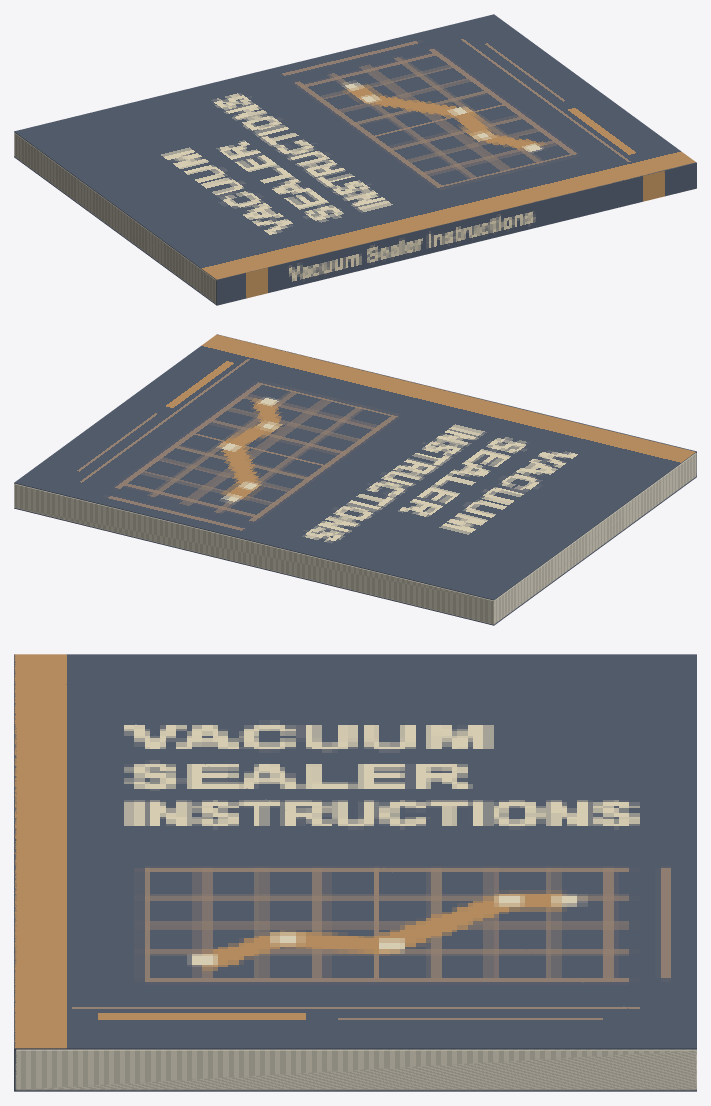
The model's file is vacuum_sealing.glb.
3 renders of one model, top to bottom at view 1: azimuth 30°, elevation 25°; view 2: azimuth 150°, elevation 25°; view 3: azimuth 270°, elevation 25°, orthographic. The views are drawn at different scales.
Parts seen in each view (by area): view 1: block_front, block_spine, block_pages; view 2: block_front, block_pages, block_back, block_spine; view 3: block_front, block_pages, block_back, block_spine.
Boxes of the visible parts, x1,y1,x2,y2 form: block_front: (14,14,695,279); block_spine: (216,162,696,305); block_pages: (14,132,216,303); block_front: (14,334,696,600); block_pages: (14,453,696,624); block_back: (14,477,696,625); block_spine: (217,334,696,477); block_front: (14,654,696,1049); block_pages: (15,1049,696,1090); block_back: (14,1089,696,1091); block_spine: (14,654,16,1091).
Size of the model in its own units: 0.1588 by 0.00815 by 0.1162.
1 material, 1 textured.
